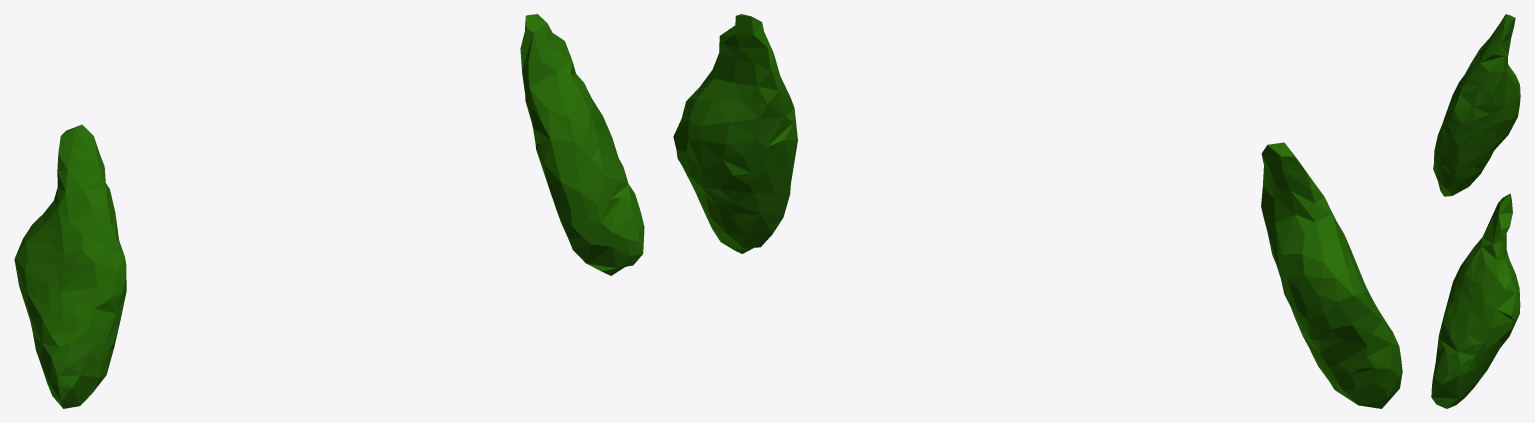
Rendered from 35-TH-temporal area TH-('0.1686', '0.4980', '0.0000').obj.
3 views of the same model, side by side, from view 1: azimuth 30°, elevation 25°; view 2: azimuth 150°, elevation 25°; view 3: azimuth 270°, elevation 25° (orthographic). The views are drawn at different scales.
Bounding box in the file's own units: 148 × 58.05 × 23.81.
